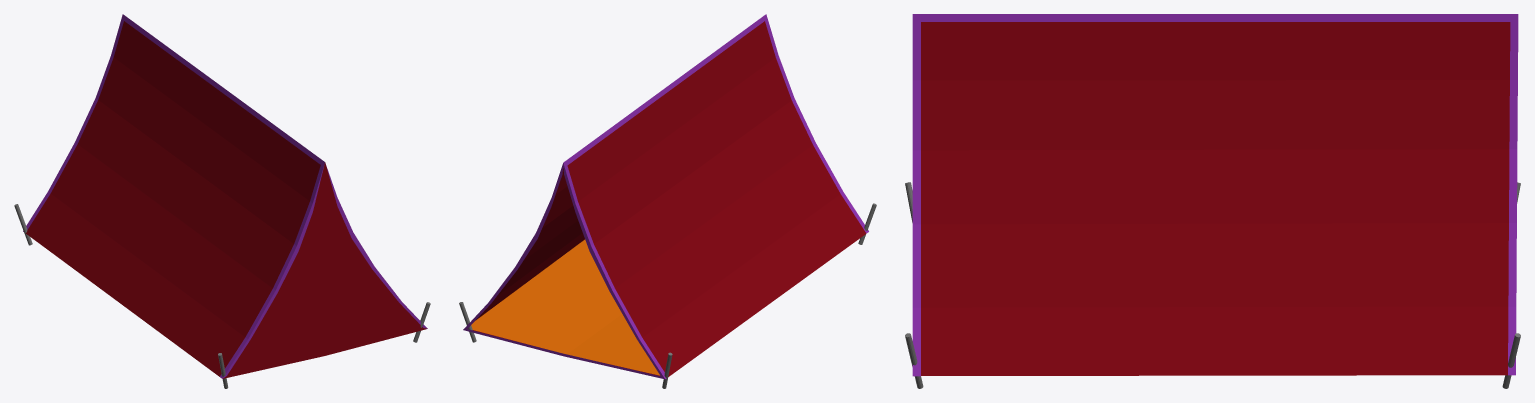
Rendered from TentSource.fbx.
The picture shows the model from 3 angles, left to right: view 1: azimuth 30°, elevation 25°; view 2: azimuth 150°, elevation 25°; view 3: azimuth 270°, elevation 25°; orthographic projection. The views are drawn at different scales.
Parts seen in each view (by area): view 1: Cube, Cylinder; view 2: Cube, Cylinder; view 3: Cube, Cylinder.
Part boxes in pixels (x1,y1,x2,y2): Cube: [23, 14, 427, 378]; Cylinder: [14, 204, 430, 388]; Cube: [463, 14, 868, 379]; Cylinder: [459, 203, 876, 388]; Cube: [912, 14, 1518, 376]; Cylinder: [905, 182, 1520, 388].
Size of the model in its own units: 2.31 by 2.13 by 3.88.
